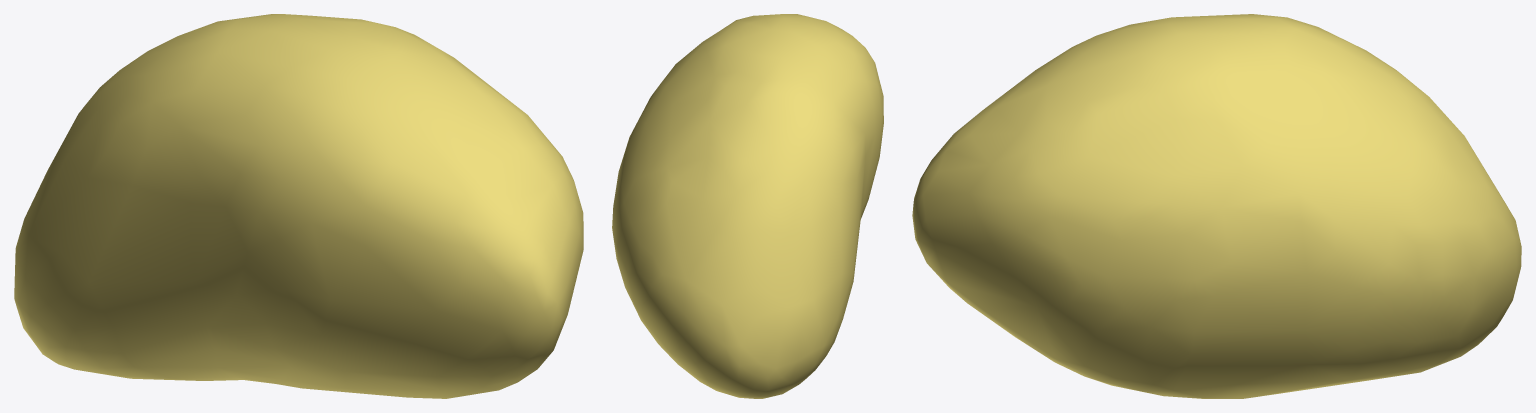
File: thalamus-r.glb
3 views of the same model, side by side, from view 1: azimuth 30°, elevation 25°; view 2: azimuth 150°, elevation 25°; view 3: azimuth 270°, elevation 25° (orthographic). The views are drawn at different scales.
Parts seen in each view (by area): view 1: Thalamus.r; view 2: Thalamus.r; view 3: Thalamus.r.
Part boxes in pixels (x1,y1,x2,y2): Thalamus.r: (14,14,583,398); Thalamus.r: (612,14,883,398); Thalamus.r: (912,14,1521,398).
Bounding box in the file's own units: 0.0227 × 0.0229 × 0.0354.
